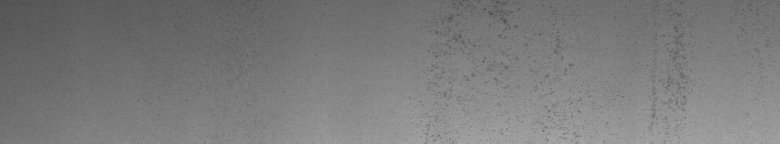ib: (428, 4, 582, 132)
